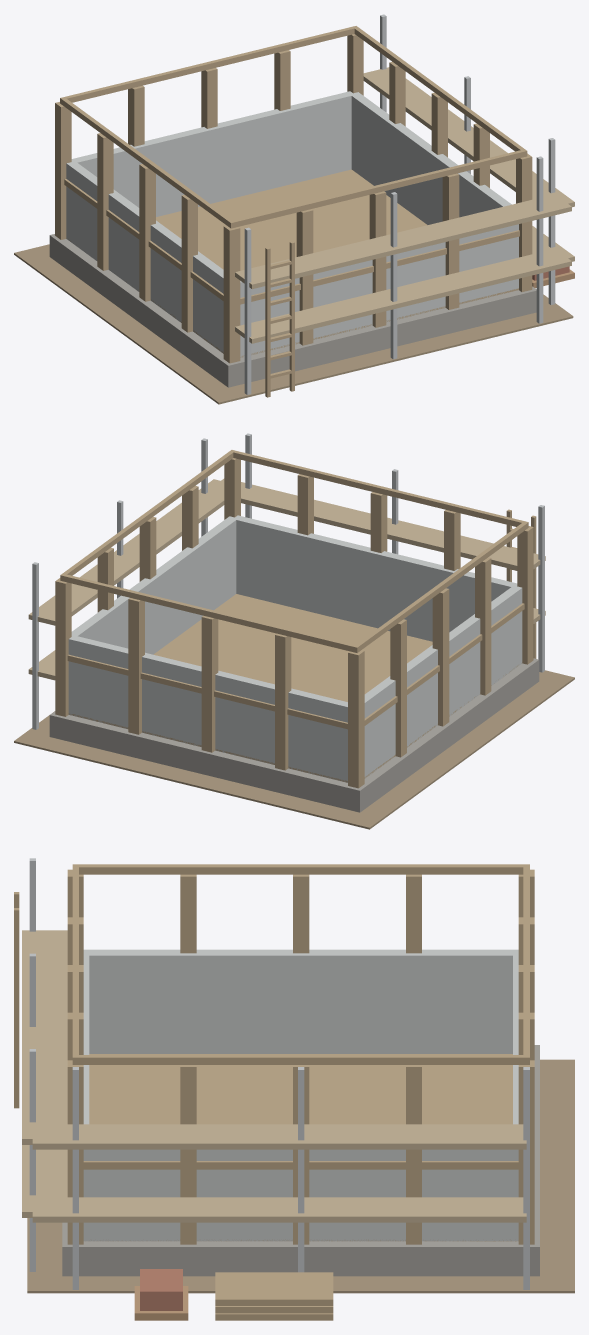
The model's file is spa_site_6.glb.
3 renders of one model, top to bottom at view 1: azimuth 30°, elevation 25°; view 2: azimuth 150°, elevation 25°; view 3: azimuth 270°, elevation 25°, orthographic. The views are drawn at different scales.
Visible parts, largest first — view 1: body; view 2: body; view 3: body.
Boxes of the visible parts, x1,y1,x2,y2 form: body: (14,14,574,404); body: (14,433,574,829); body: (14,858,574,1320).
Bounding box in the file's own units: 2.28 × 0.915 × 2.09.
